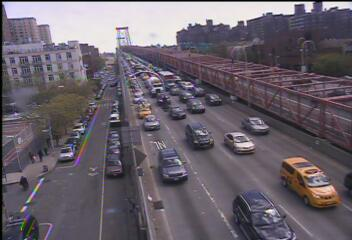neg: (154, 73, 176, 101), (102, 38, 122, 65), (89, 121, 107, 145), (145, 128, 162, 150), (201, 77, 217, 99), (177, 169, 193, 190), (248, 29, 264, 50), (246, 84, 261, 105), (286, 90, 301, 110), (152, 14, 167, 34), (209, 129, 223, 148), (103, 174, 115, 190), (86, 63, 98, 79), (124, 80, 136, 95), (46, 56, 55, 68), (21, 51, 30, 63), (230, 192, 238, 203), (111, 83, 119, 94), (70, 33, 78, 43), (260, 145, 267, 156)
pos: (17, 171, 32, 191), (53, 133, 65, 149), (44, 133, 53, 146), (27, 150, 36, 161), (36, 149, 44, 159), (41, 146, 49, 156)
